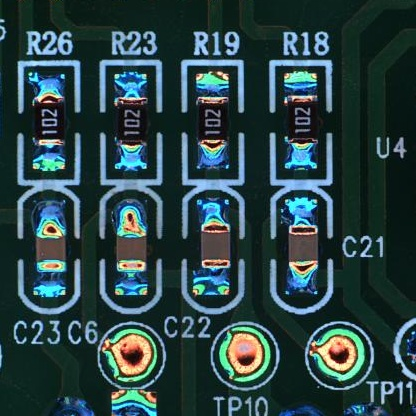spot: (308, 327, 366, 382), (218, 325, 272, 384), (102, 329, 159, 383)
